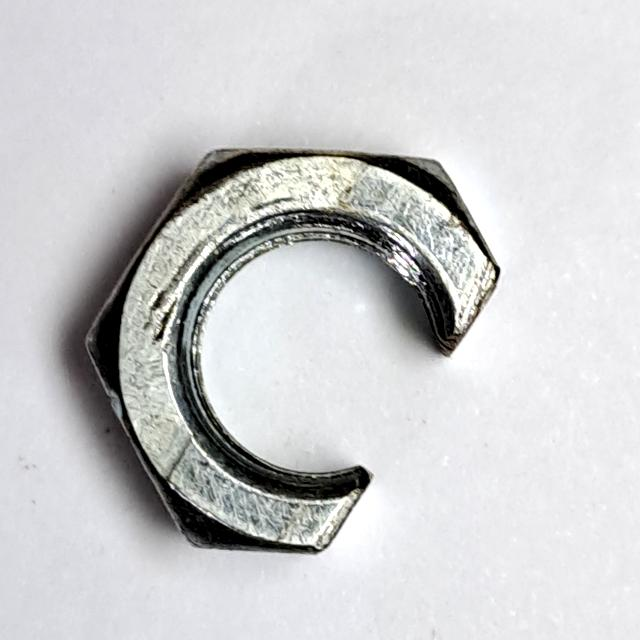Fracture: (70, 134, 508, 578)
